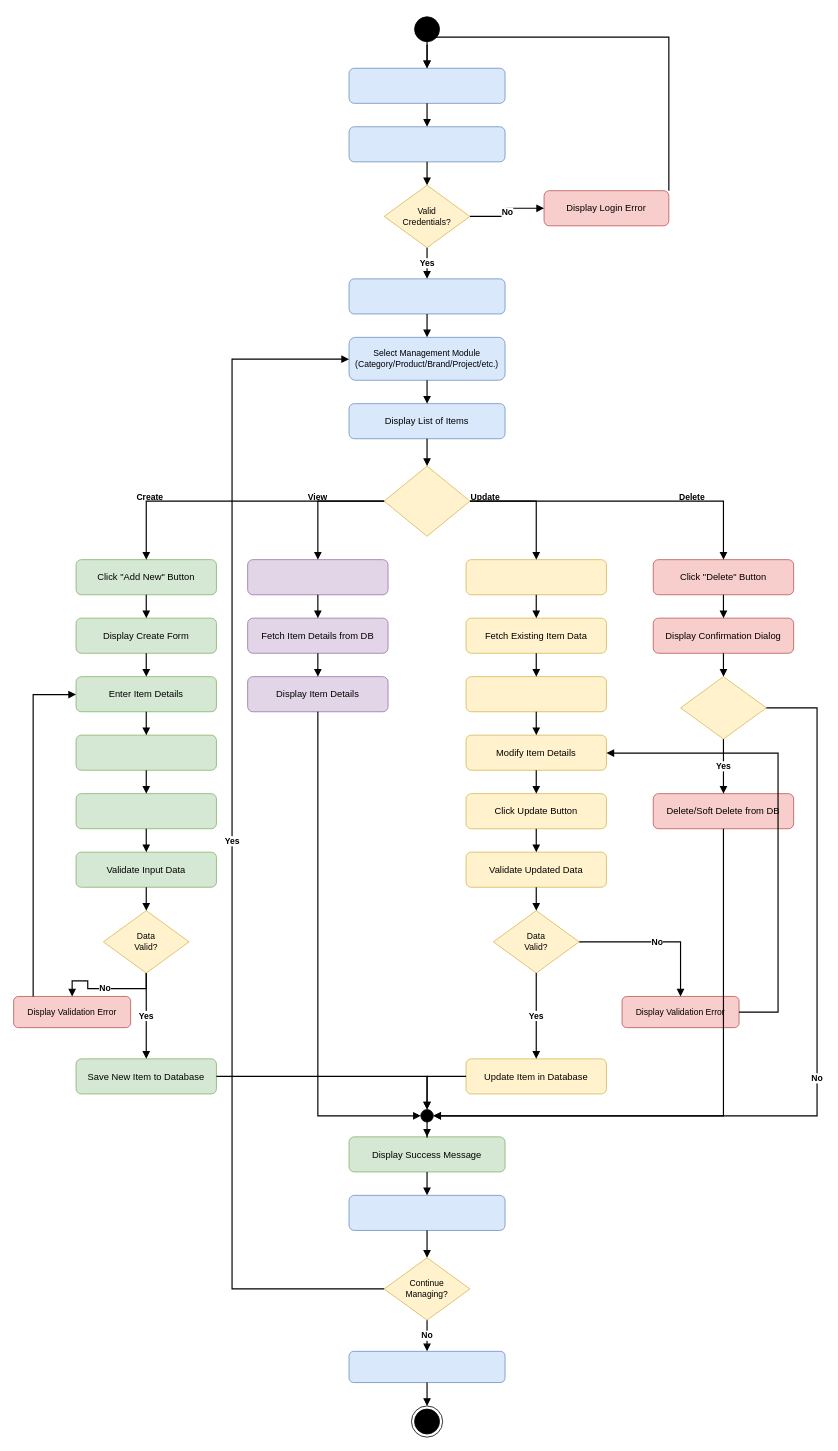
Image size: 838x1451. Some labels were removed from this diagram. The box of each missing label's shape, as (x1, y1, x2, y2) in pixels:
Admin Login to Dashboard: (348, 67, 505, 103)
Click "Edit" Button: (465, 559, 606, 595)
Click "View" Button: (247, 559, 388, 595)
Click Submit Button: (75, 793, 216, 829)
Confirm Delete?: (680, 676, 766, 739)
Display Admin Dashboard: (348, 278, 505, 314)
Display Edit Form with Data: (465, 676, 606, 712)
Logout: (348, 1351, 505, 1383)
Refresh Item List: (348, 1195, 505, 1230)
Select Operation: (383, 465, 470, 536)
Upload Image (if required): (75, 734, 216, 770)
Verify Admin Credentials: (348, 126, 505, 162)
